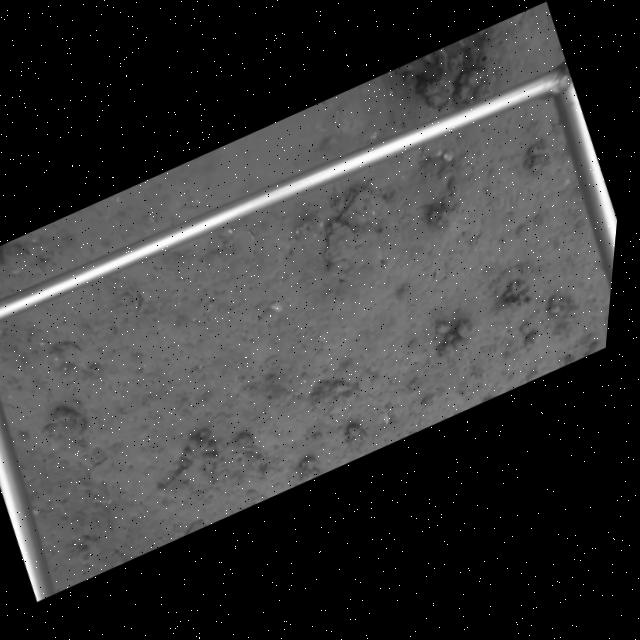Oyster-Indeterminate: (322, 189, 394, 280)
